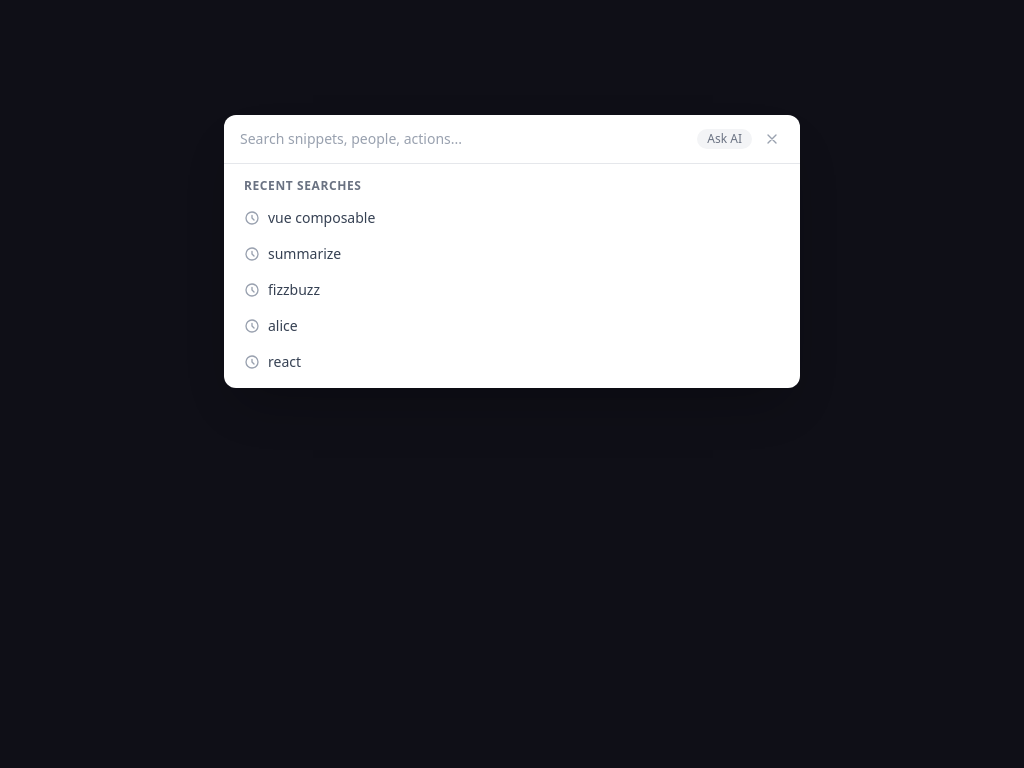
TheSearchModal › shows loading state when isLoading is true
Set a non-empty input so loading shows in the results area
Step 1. Type "react" into the field with placeholder "Search snippets, people, actions..." → (465, 139), box [240, 129, 689, 149]
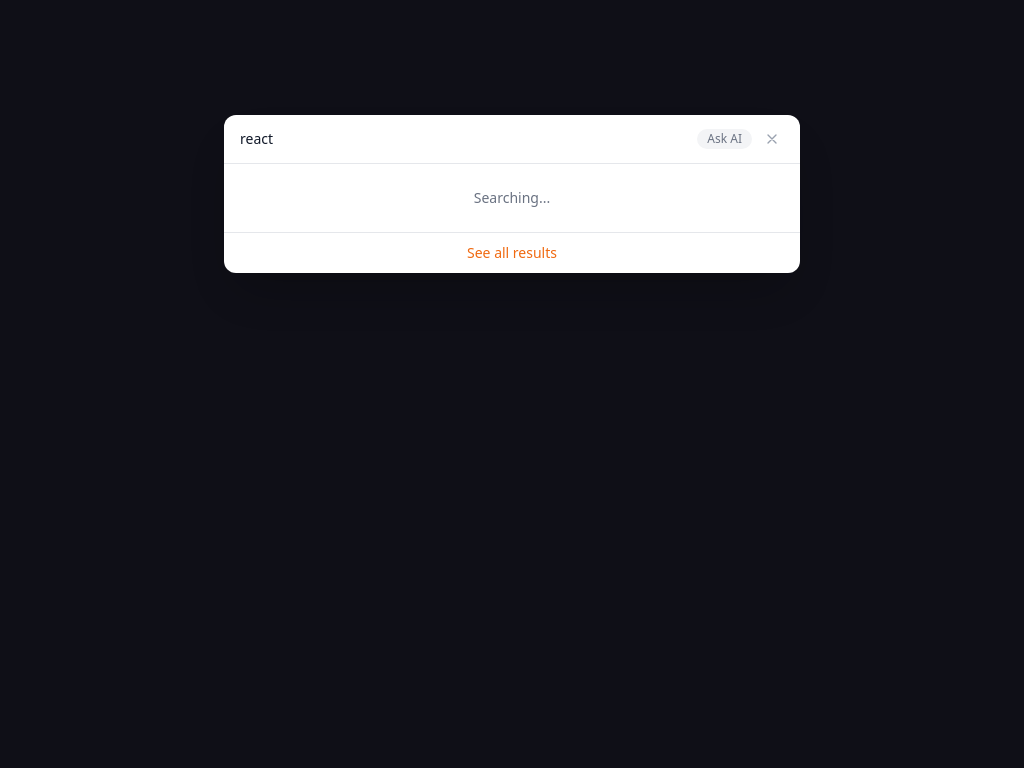
expect the text "Searching..." is shown: met, box [474, 188, 550, 207]
